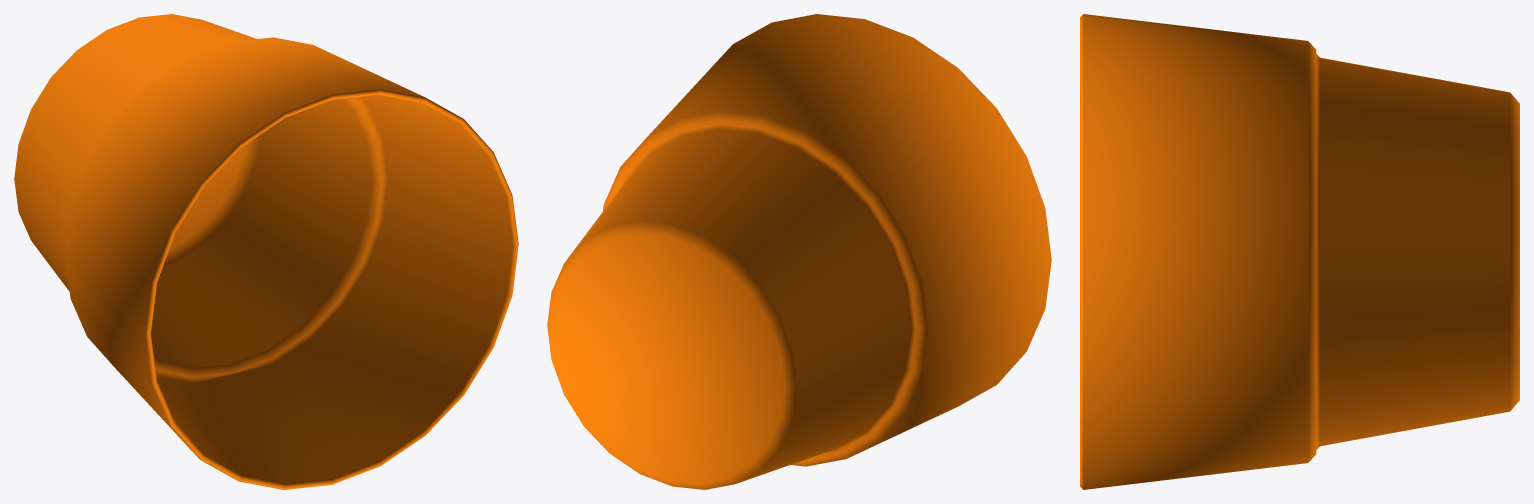
Rendered from model_align.obj.
3 views of the same model, side by side, from view 1: azimuth 30°, elevation 25°; view 2: azimuth 150°, elevation 25°; view 3: azimuth 270°, elevation 25° (orthographic). The views are drawn at different scales.
Visible parts, largest first — view 1: mesh1_mesh1-geometry; view 2: mesh1_mesh1-geometry; view 3: mesh1_mesh1-geometry.
Boxes of the visible parts, box(x1,y1,x2,y2) form: mesh1_mesh1-geometry: box(14, 14, 518, 489); mesh1_mesh1-geometry: box(547, 14, 1051, 489); mesh1_mesh1-geometry: box(1080, 14, 1519, 489).
Size of the model in its own units: 0.1012 by 0.1012 by 0.0932.
